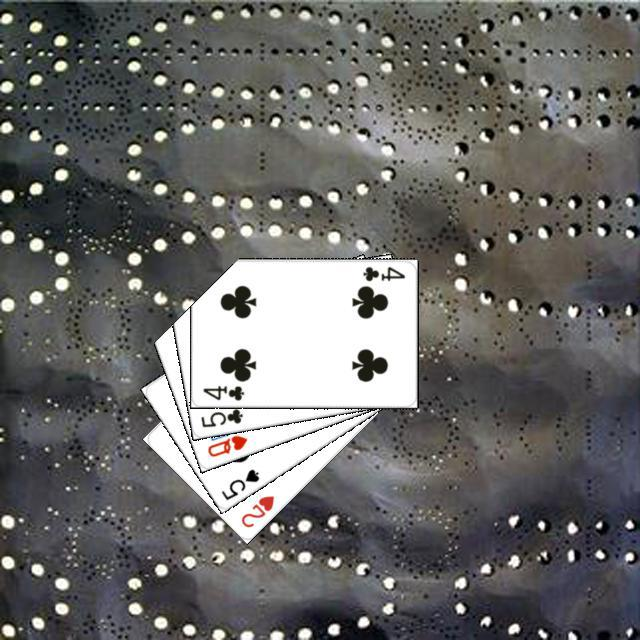2h: (236, 491, 276, 529)
4c: (198, 381, 246, 402), (358, 261, 406, 282)
5c: (196, 404, 245, 429)
5s: (216, 464, 261, 502)
Qh: (202, 430, 249, 458)
